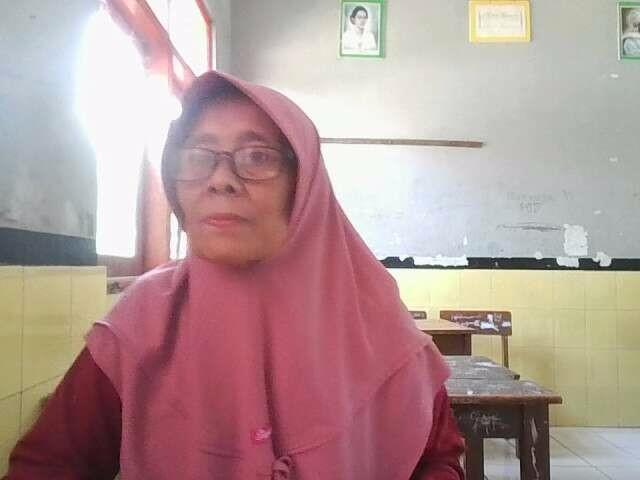cheating: (0, 53, 480, 480)
